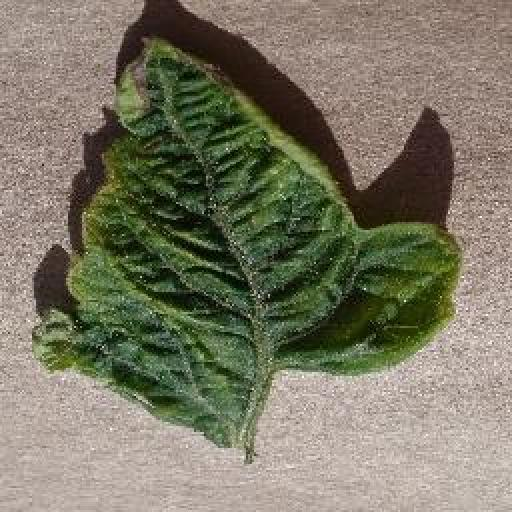disease_tomato: (31, 32, 463, 445)
